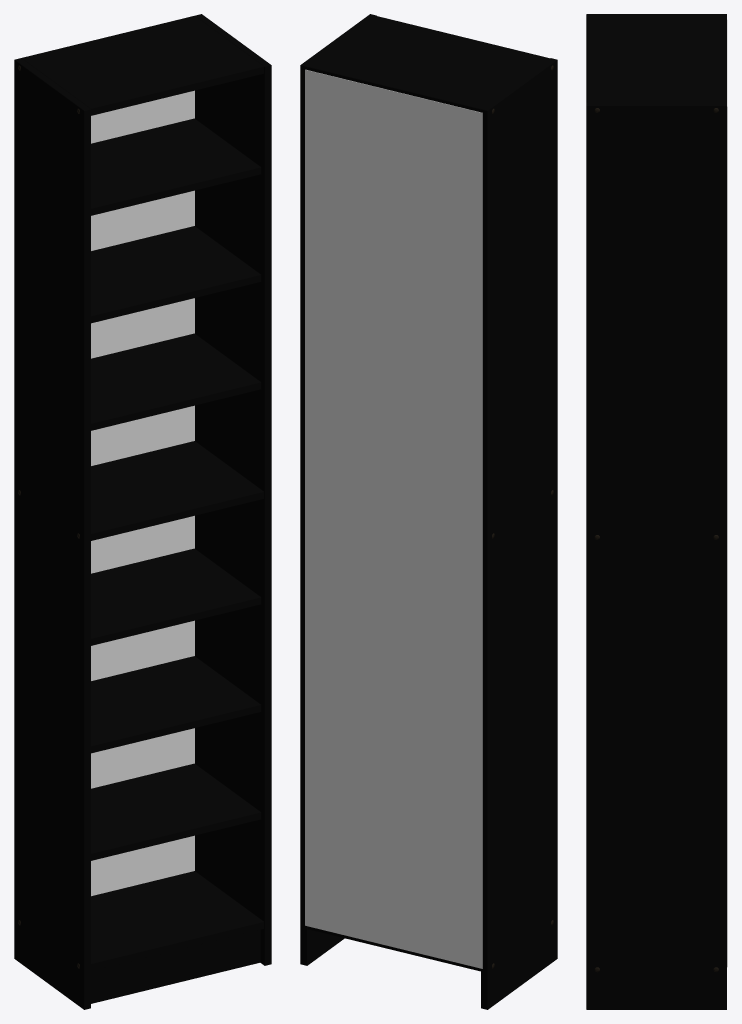
File: bookshelf.fbx
3 renders of one model, left to right at view 1: azimuth 30°, elevation 25°; view 2: azimuth 150°, elevation 25°; view 3: azimuth 270°, elevation 25°, orthographic.
Visible parts, largest first — view 1: Side L, Side R, Back, Top, Shelf Middle, Bottom, Shelf Top 3, Shelf Top 2, Shelf Bottom 3, Shelf Top 1, Shelf Bottom 2, Shelf Bottom 1 (+1 smaller); view 2: Back, Side L, Top, Side R, Bottom; view 3: Side R, Top, Back, Side L.
Part boxes in pixels (x1=…): Side L: x1=14, y1=58, x2=90, y2=1009; Side R: x1=195, y1=14, x2=271, y2=965; Back: x1=91, y1=90, x2=194, y2=896; Top: x1=21, y1=15, x2=263, y2=115; Shelf Middle: x1=91, y1=441, x2=263, y2=540; Bottom: x1=91, y1=871, x2=263, y2=970; Shelf Top 3: x1=91, y1=333, x2=261, y2=430; Shelf Top 2: x1=91, y1=226, x2=261, y2=323; Shelf Bottom 3: x1=91, y1=548, x2=261, y2=645; Shelf Top 1: x1=91, y1=118, x2=261, y2=215; Shelf Bottom 2: x1=91, y1=656, x2=261, y2=753; Shelf Bottom 1: x1=91, y1=763, x2=261, y2=860; Back: x1=305, y1=69, x2=482, y2=968; Side L: x1=481, y1=58, x2=557, y2=1009; Top: x1=307, y1=16, x2=549, y2=112; Side R: x1=300, y1=14, x2=376, y2=965; Bottom: x1=307, y1=926, x2=480, y2=971; Side R: x1=586, y1=102, x2=726, y2=1009; Top: x1=587, y1=17, x2=726, y2=102; Back: x1=727, y1=19, x2=727, y2=967; Side L: x1=586, y1=14, x2=726, y2=102.
Bounding box in the file's own units: 48.2 × 220 × 31.1.
3 materials, 1 textured.
